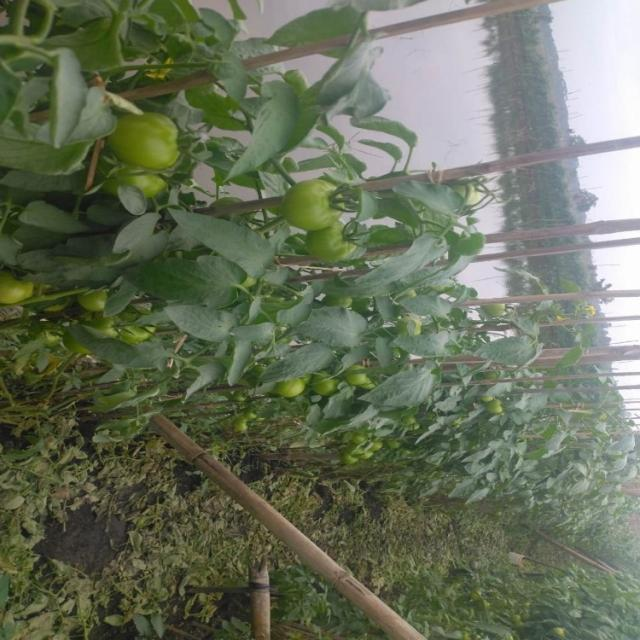tomato: (98, 111, 198, 183), (279, 172, 358, 232), (109, 160, 191, 208), (305, 222, 377, 273), (1, 255, 37, 317), (105, 311, 158, 348), (460, 164, 495, 210), (76, 281, 115, 315), (346, 432, 377, 471), (481, 295, 513, 328), (283, 376, 318, 404), (314, 367, 342, 402), (489, 391, 519, 413), (348, 364, 370, 393)
